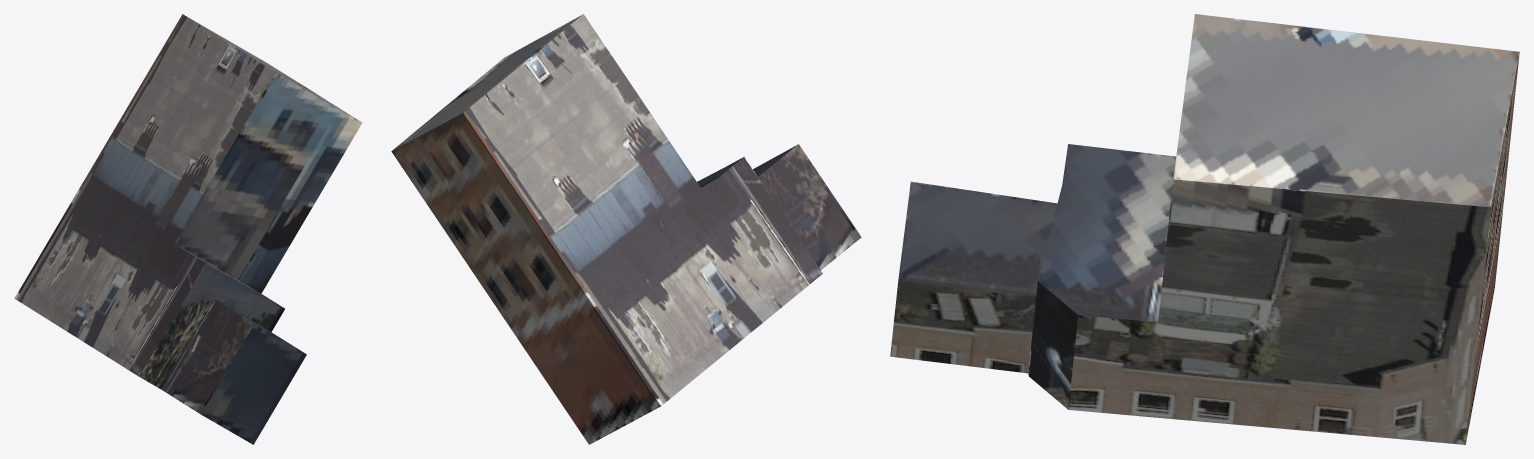
The picture shows the model from 3 angles, left to right: view 1: azimuth 30°, elevation 25°; view 2: azimuth 150°, elevation 25°; view 3: azimuth 270°, elevation 25°; orthographic projection. The views are drawn at different scales.
Visible parts, largest first — view 1: BAG_0599100000638395 (×3); view 2: BAG_0599100000638395 (×3); view 3: BAG_0599100000638395 (×3).
Part boxes in pixels (x1,y1,x2,y2): BAG_0599100000638395 (×3): (14, 14, 362, 444); BAG_0599100000638395 (×3): (391, 14, 861, 444); BAG_0599100000638395 (×3): (890, 14, 1519, 444).
Bounding box in the file's own units: 14.38 × 16.39 × 18.66.
1 material, 1 textured.
